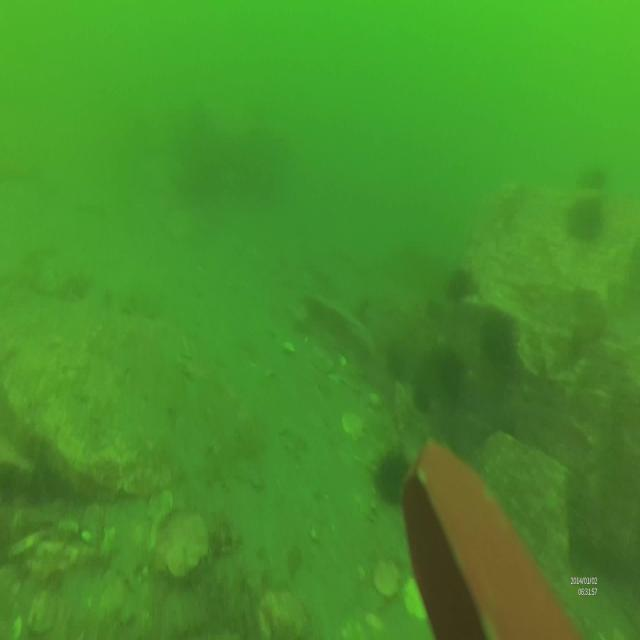echinus: (369, 448, 412, 502), (570, 198, 604, 240), (480, 318, 514, 356), (447, 270, 474, 298)
